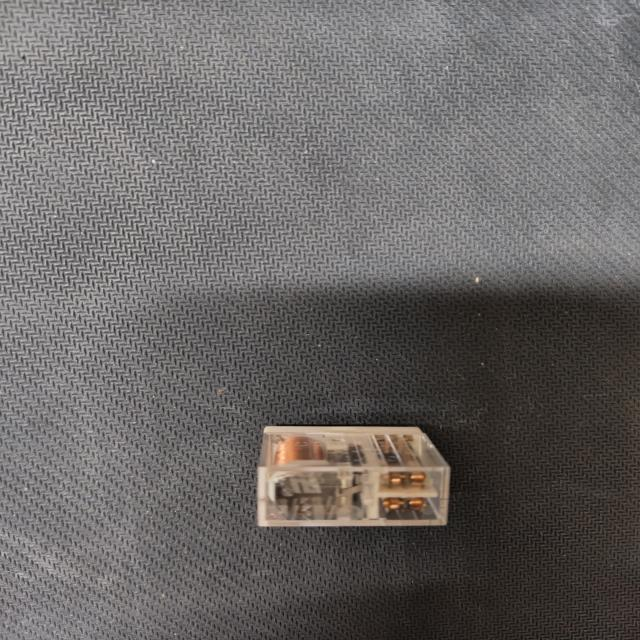relay: (244, 412, 469, 548)
